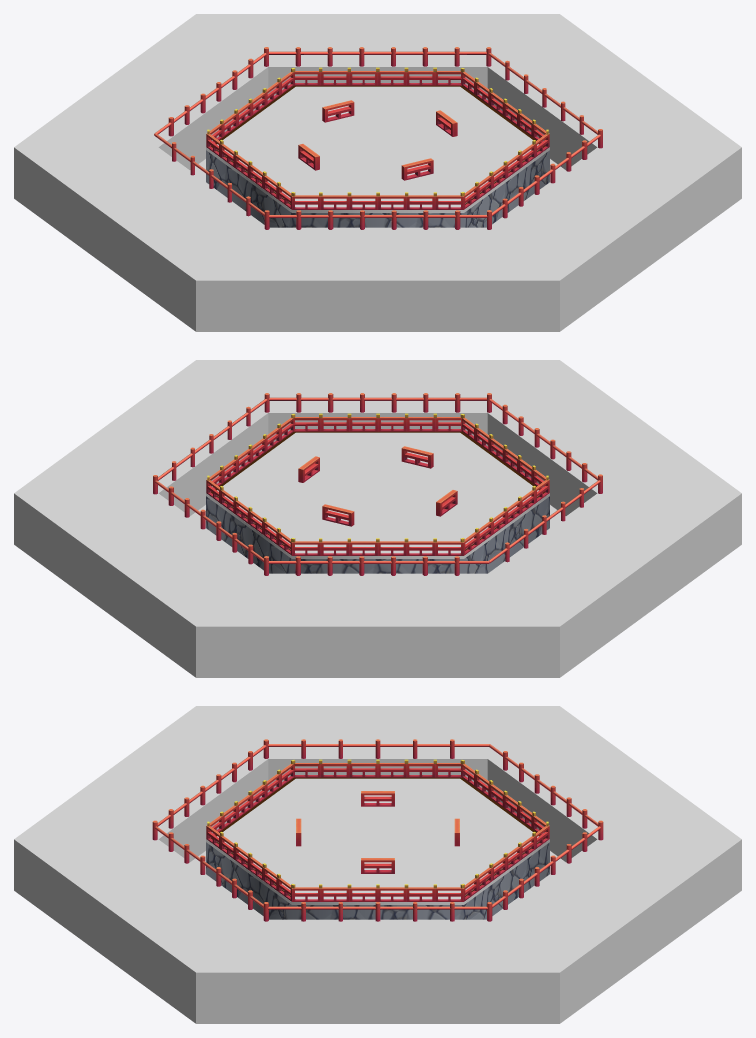
File: Duel_Stage 21.fbx
The picture shows the model from 3 angles, top to bottom: view 1: azimuth 30°, elevation 25°; view 2: azimuth 150°, elevation 25°; view 3: azimuth 270°, elevation 25°; orthographic projection.
Parts seen in each view (by area): view 1: hexa_platform.001, hexa_platform, Cube.066, Cube.065, hexa_platform.002; view 2: hexa_platform.001, hexa_platform, Cube.066, Cube.065, hexa_platform.002; view 3: hexa_platform.001, hexa_platform, Cube.066, Cube.065, hexa_platform.002.
Part boxes in pixels (x1,y1,x2,y2): hexa_platform.001: (14, 14, 741, 331); hexa_platform: (206, 86, 549, 227); Cube.066: (206, 67, 549, 209); Cube.065: (154, 47, 602, 229); hexa_platform.002: (211, 85, 544, 204); hexa_platform.001: (14, 360, 741, 677); hexa_platform: (206, 432, 549, 573); Cube.066: (206, 413, 549, 555); Cube.065: (153, 393, 602, 575); hexa_platform.002: (211, 431, 544, 550); hexa_platform.001: (14, 706, 741, 1023); hexa_platform: (206, 778, 549, 919); Cube.066: (206, 759, 549, 901); Cube.065: (152, 739, 603, 921); hexa_platform.002: (211, 777, 544, 896).
Bounding box in the file's own units: 11145 × 1346 × 12869.
